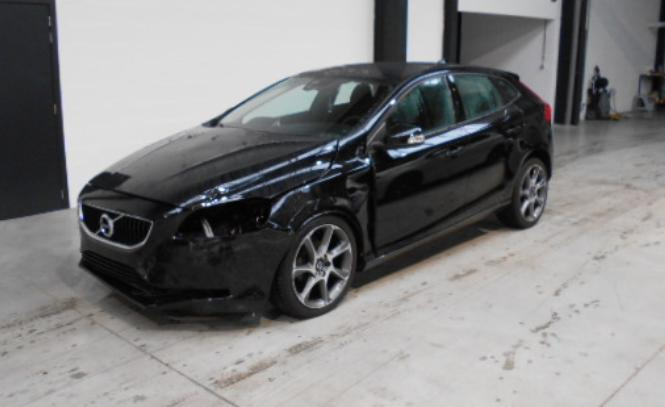Back-door: (447, 70, 528, 216)
Back-wheel: (495, 157, 548, 229)
Back-window: (456, 76, 507, 120), (495, 79, 517, 100)
Fender: (265, 126, 378, 261)
Front-bumper: (77, 183, 297, 325)
Front-door: (366, 70, 470, 257)
Front-wheel: (269, 215, 358, 319)
Front-window: (384, 76, 453, 133)
Grille: (78, 201, 155, 253)
Hood: (87, 125, 337, 211)
Mirror: (366, 118, 425, 154)
Quarter-panel: (513, 87, 554, 175)
Rocker-panel: (363, 199, 511, 272)
Roof: (289, 62, 469, 85)
Tail-light: (520, 80, 552, 123)
Windshield: (216, 77, 395, 139)
